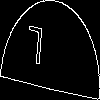L: (25, 25, 44, 75)
